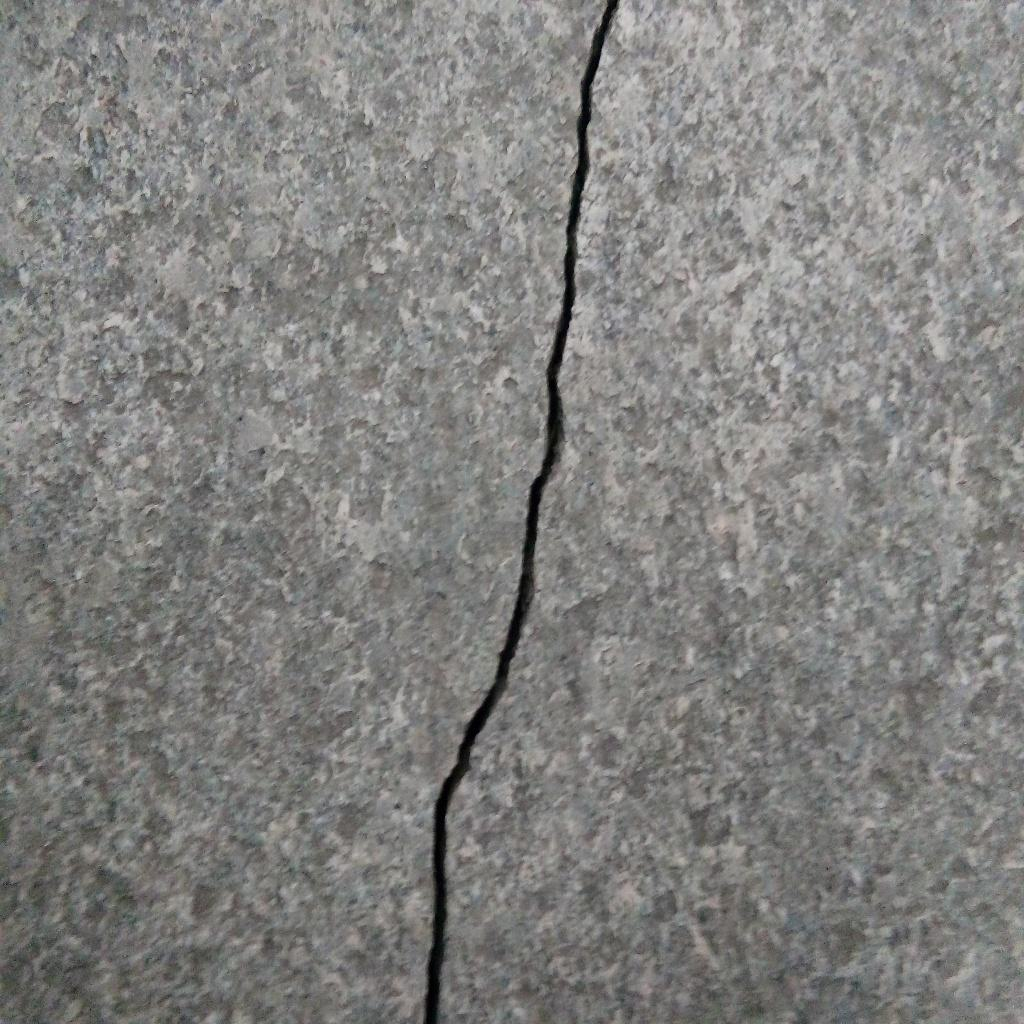Crack: (421, 1, 618, 1024)
